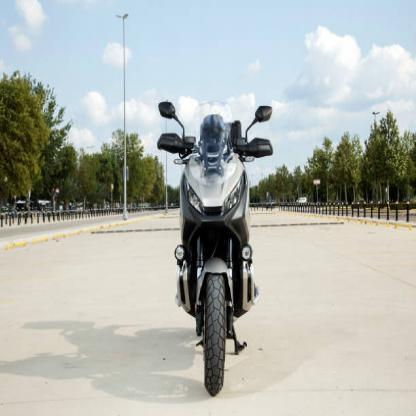Motorcycle: (156, 89, 276, 398)
